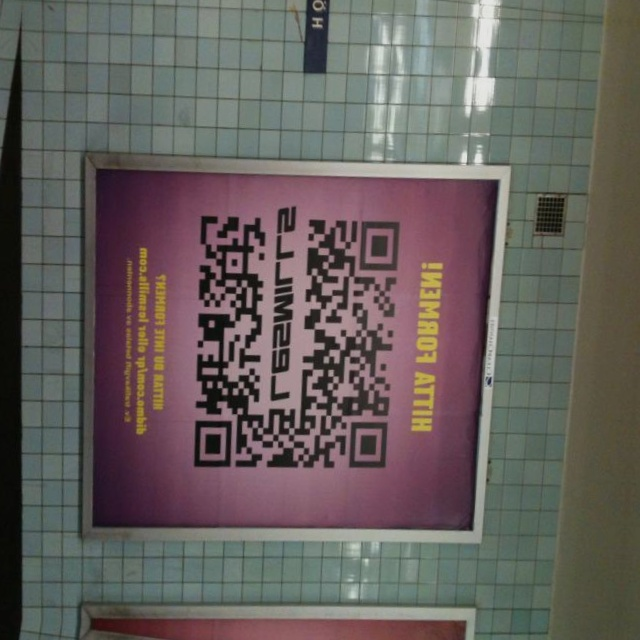qr-code: (184, 208, 403, 481)
